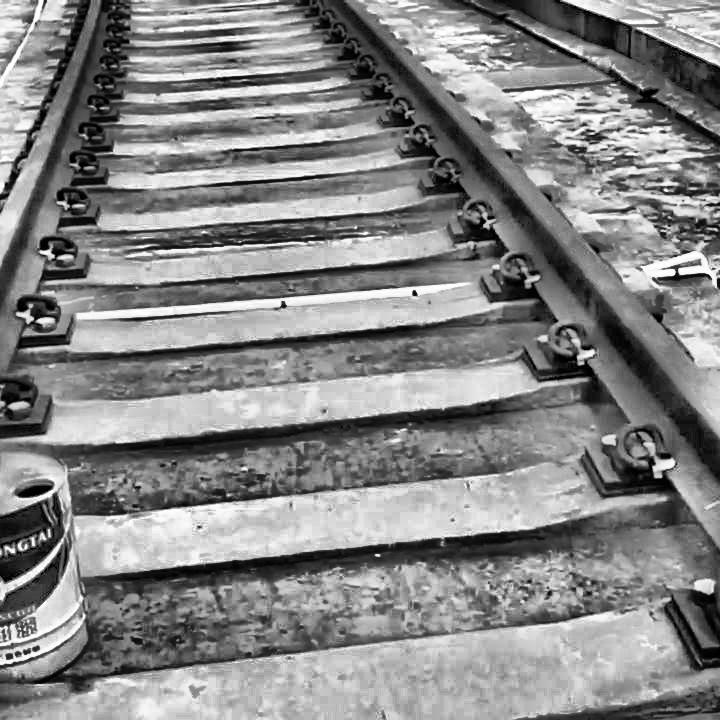Trash: (0, 448, 110, 684)
